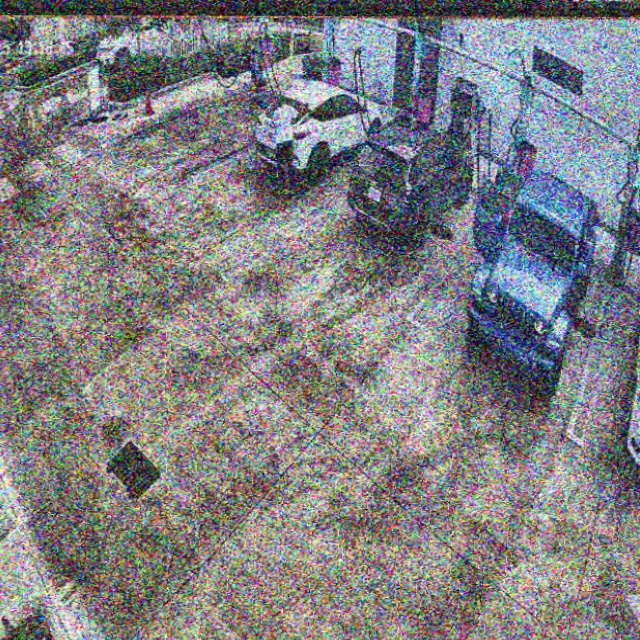Car: (462, 166, 604, 392), (349, 119, 475, 252), (256, 79, 381, 177)
